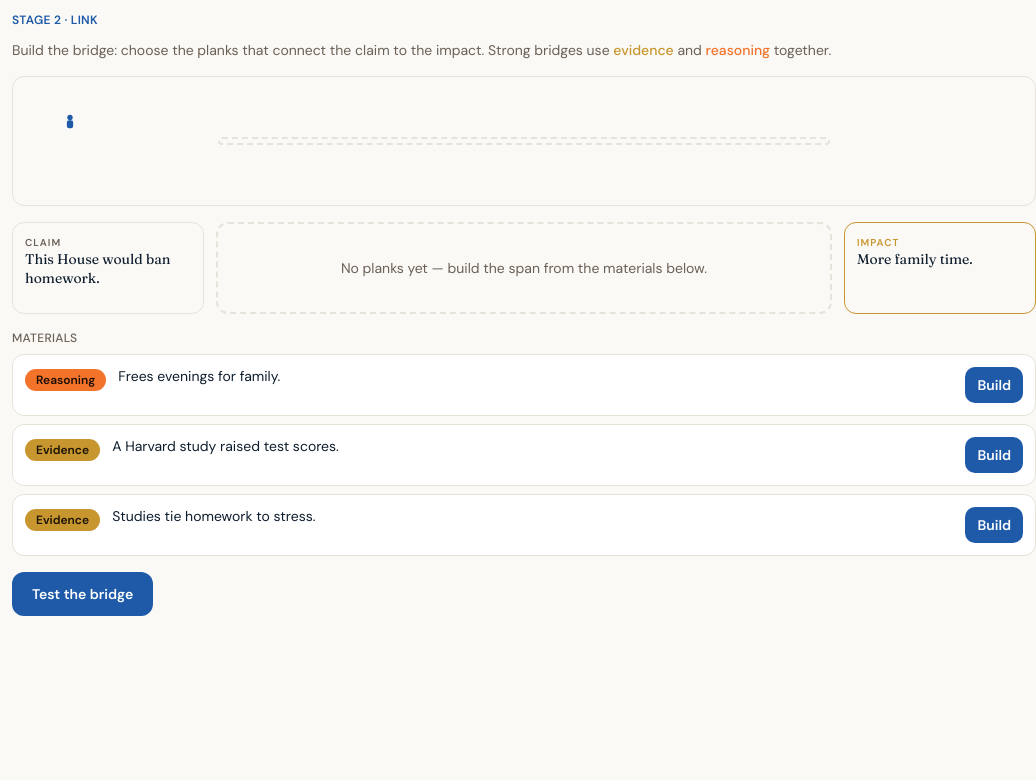
it: LinkCard › does not hold and reveals the great-but-wrong explanation when that plank is built
This screenshot has width=1036, height=780.
Click the button "Build" in the row of "Studies tie homework to stress.". click: (994, 525)
box: [966, 507, 1023, 543]
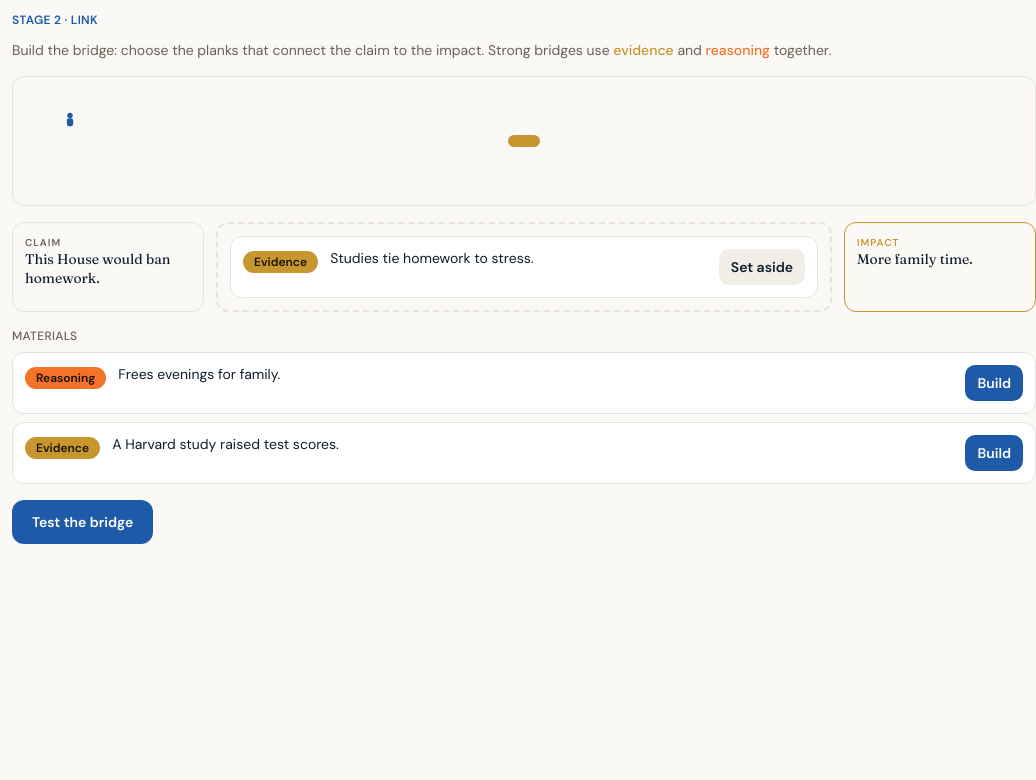
Click the button "Build" in the row of "Frees evenings for family.". click: (994, 383)
box: [966, 365, 1023, 401]
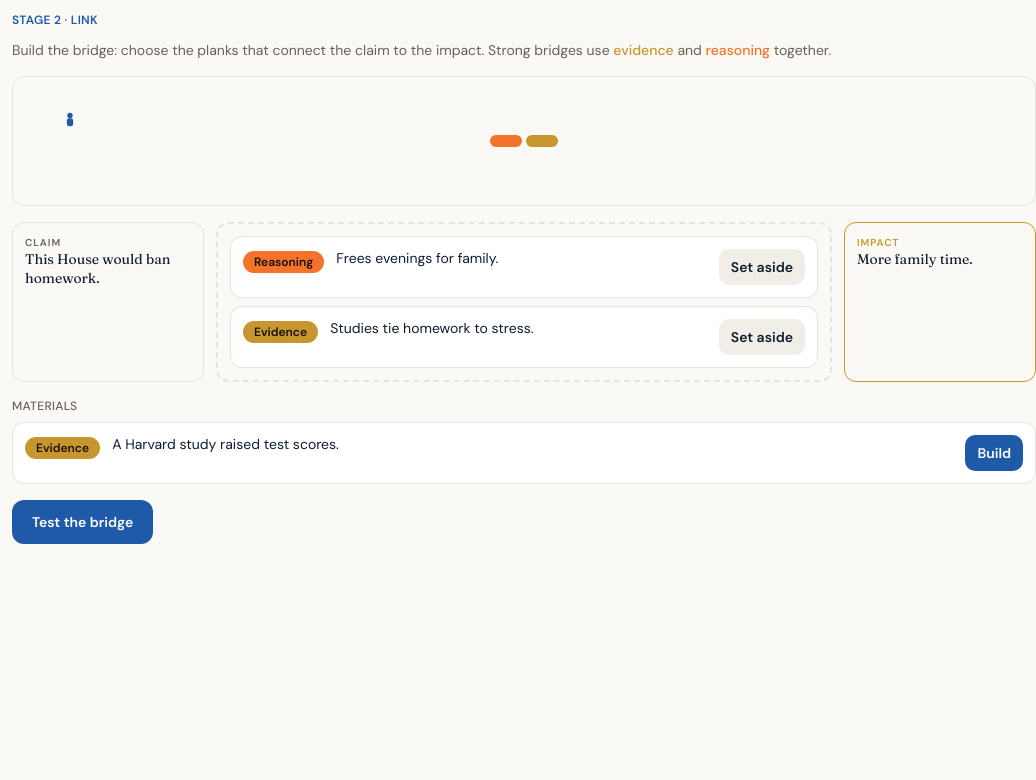
Click the button "Build". click: (994, 453)
box: [966, 435, 1023, 471]
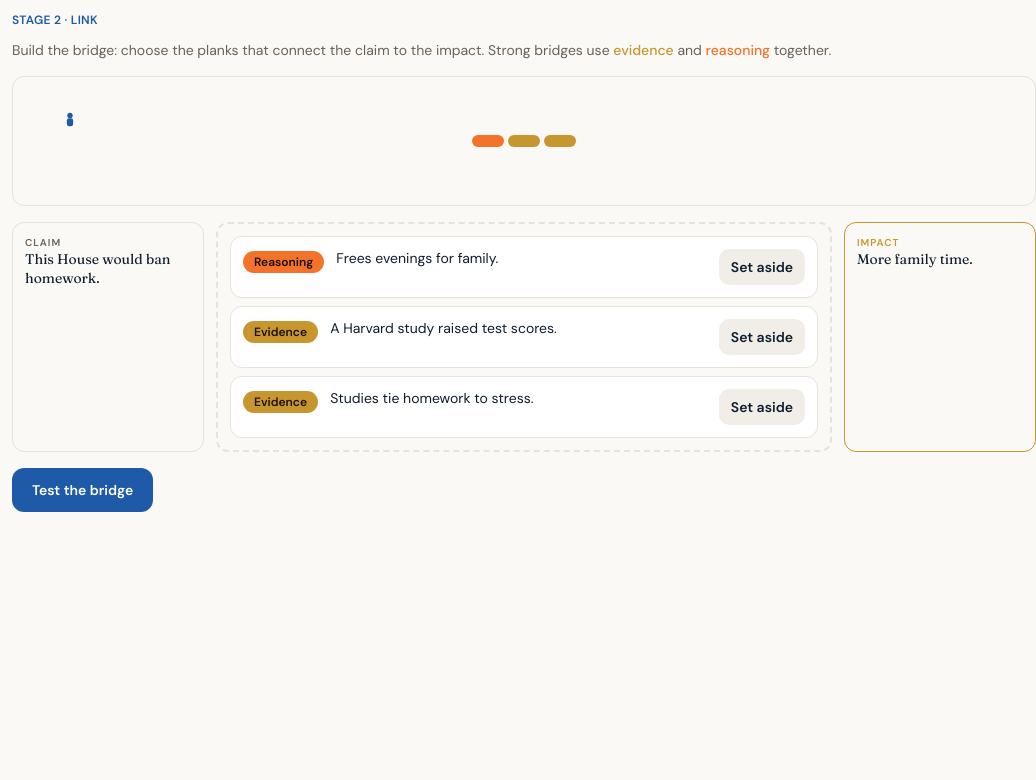
Click the button "Test the bridge". click: (83, 490)
box: [12, 468, 153, 512]
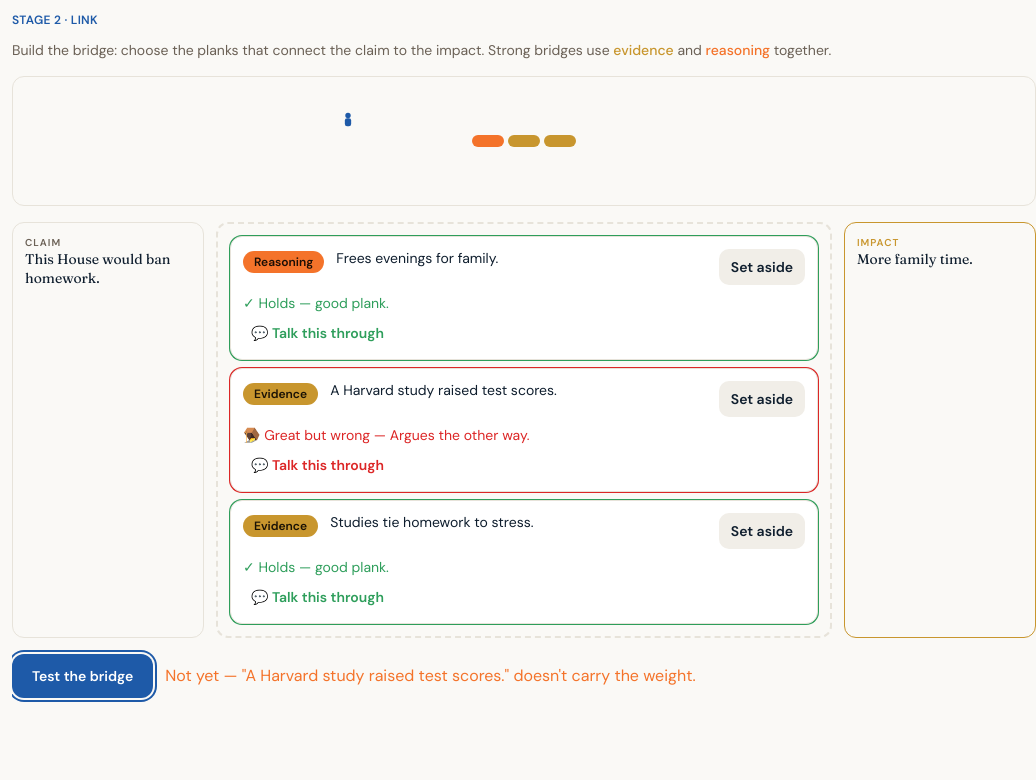
Expected: the text "Argues the other way" is shown, [243, 426, 530, 444]
